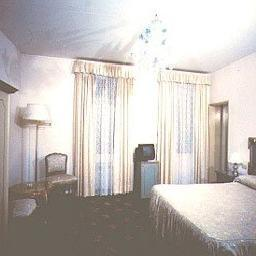Cama: (149, 173, 254, 254)
